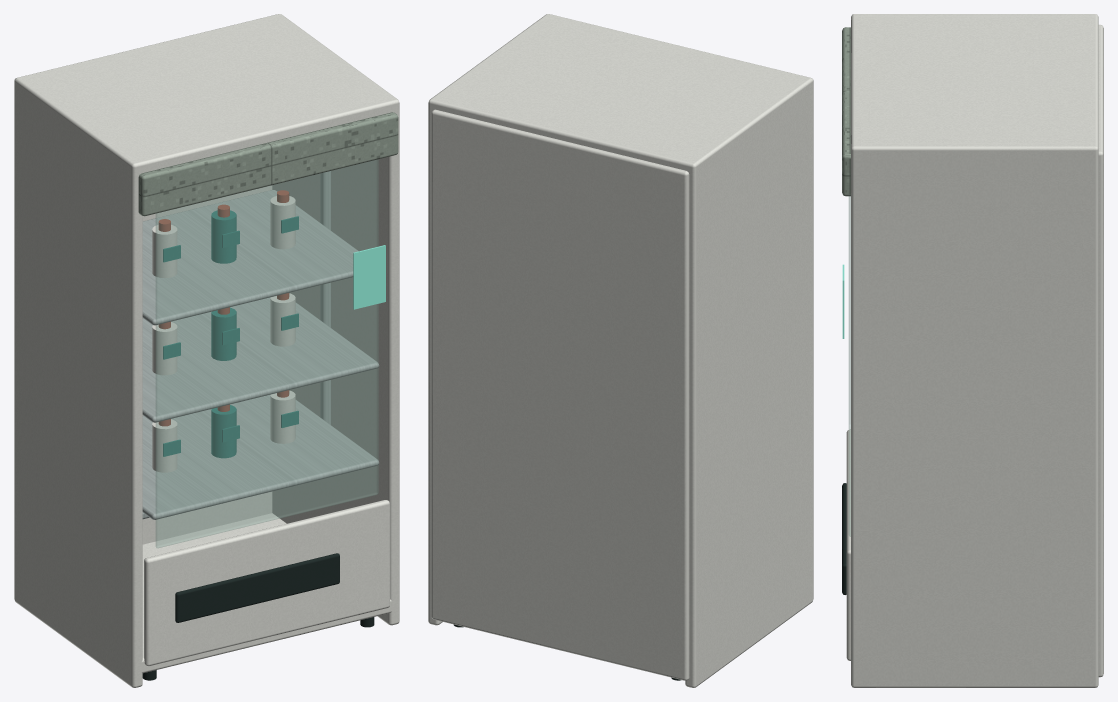
The model's file is detail-vending-0.glb.
The picture shows the model from 3 angles, left to right: view 1: azimuth 30°, elevation 25°; view 2: azimuth 150°, elevation 25°; view 3: azimuth 270°, elevation 25°; orthographic projection. The views are drawn at different scales.
Visible parts, largest first — view 1: cabinet_side (×2), display_glass, shelf (×3), cabinet_cap (×2), lower_door, header, bottle (×9), pickup_opening, cabinet_back, label_payment_screen, frame_side; view 2: cabinet_back, cabinet_side (×2), cabinet_cap; view 3: cabinet_side (×2), cabinet_cap, cabinet_back, header, lower_door, display_glass, pickup_opening.
Part boxes in pixels (box(x1,y1,x2,y2)): cabinet_side (×2): box(14, 14, 399, 687); display_glass: box(156, 159, 378, 547); shelf (×3): box(142, 190, 379, 519); cabinet_cap (×2): box(22, 15, 392, 673); lower_door: box(144, 500, 389, 666); header: box(138, 112, 398, 216); bottle (×9): box(152, 196, 295, 472); pickup_opening: box(175, 553, 339, 622); cabinet_back: box(142, 185, 272, 544); label_payment_screen: box(353, 245, 385, 309); frame_side: box(320, 171, 330, 424); cabinet_back: box(431, 109, 689, 680); cabinet_side (×2): box(428, 14, 813, 687); cabinet_cap: box(435, 15, 805, 170); cabinet_side (×2): box(851, 14, 1098, 687); cabinet_cap: box(851, 17, 1098, 145); cabinet_back: box(1098, 24, 1103, 677); header: box(842, 27, 850, 196); lower_door: box(846, 429, 850, 660); display_glass: box(849, 196, 850, 536); pickup_opening: box(842, 483, 846, 594).
Bounding box in the file's own units: 1.1 × 2.05 × 0.8975.
Materials: 8 (6 with a texture image).
